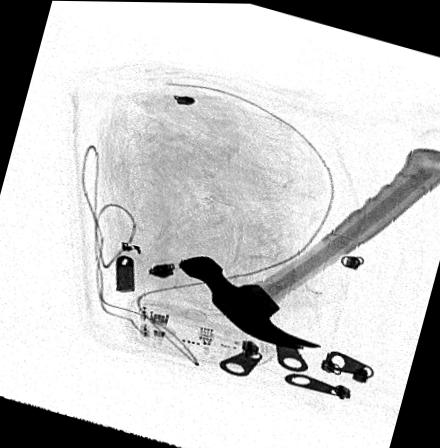Hammer: (176, 147, 440, 351)
